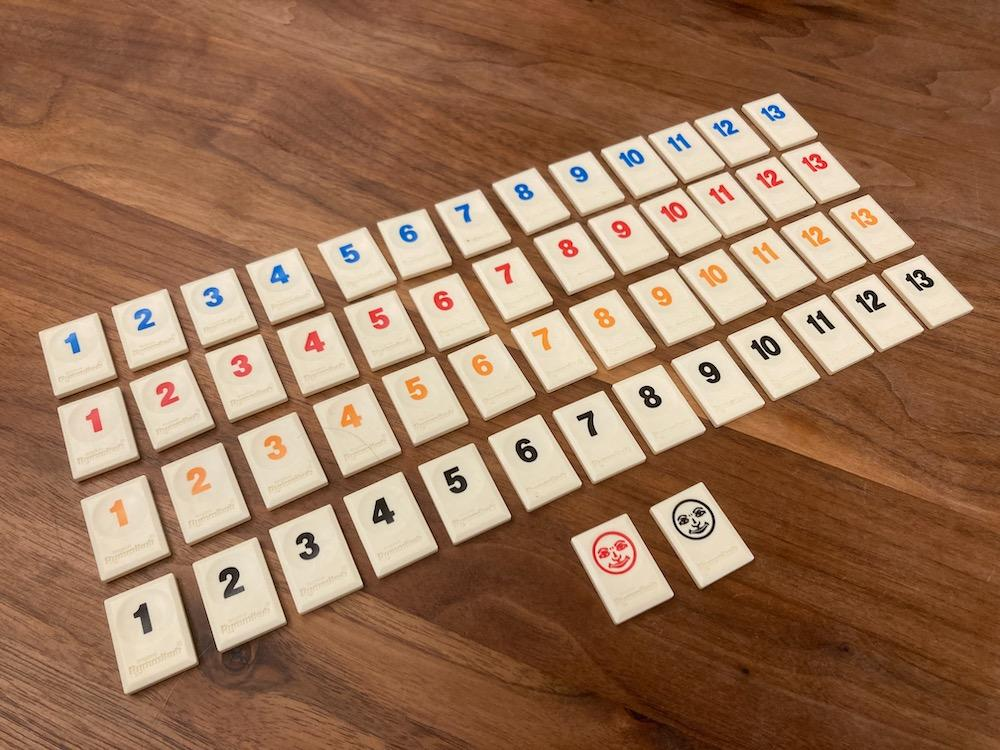black_1: (104, 574, 197, 693)
black_10: (727, 318, 820, 400)
black_11: (783, 295, 873, 375)
black_12: (832, 275, 924, 352)
black_13: (883, 256, 973, 328)
black_2: (194, 537, 287, 652)
black_3: (271, 504, 363, 615)
black_4: (344, 473, 438, 578)
black_5: (420, 443, 510, 545)
black_6: (488, 414, 580, 512)
black_7: (553, 391, 646, 482)
black_8: (615, 365, 705, 453)
black_9: (672, 342, 764, 426)
blue_1: (39, 314, 117, 398)
blue_10: (602, 137, 678, 199)
blue_11: (648, 121, 725, 184)
blue_12: (695, 107, 770, 166)
blue_13: (742, 94, 818, 150)
blue_2: (111, 289, 188, 371)
blue_3: (182, 270, 258, 348)
blue_4: (248, 248, 324, 324)
blue_5: (318, 227, 396, 301)
blue_6: (377, 209, 451, 279)
blue_7: (436, 189, 512, 258)
blue_8: (492, 168, 570, 234)
blue_9: (550, 152, 625, 215)
joker: (570, 514, 674, 623), (652, 482, 754, 588)
orange_1: (80, 477, 170, 582)
orange_10: (680, 250, 766, 324)
orange_11: (730, 229, 816, 301)
orange_12: (781, 213, 867, 281)
orange_13: (830, 195, 914, 262)
orange_2: (162, 443, 250, 545)
orange_3: (238, 412, 328, 510)
orange_4: (315, 385, 400, 477)
orange_5: (383, 357, 467, 445)
orange_6: (447, 334, 535, 420)
orange_7: (512, 311, 596, 393)
orange_8: (570, 289, 656, 369)
orange_9: (629, 270, 715, 346)
red_1: (57, 387, 139, 480)
red_10: (642, 189, 721, 256)
red_11: (689, 172, 768, 238)
red_12: (736, 158, 816, 221)
red_13: (781, 141, 859, 203)
red_2: (131, 361, 215, 451)
red_3: (205, 336, 287, 422)
red_4: (277, 312, 359, 396)
red_5: (345, 291, 424, 371)
red_6: (410, 273, 490, 350)
red_7: (473, 248, 553, 322)
red_8: (534, 223, 615, 295)
red_9: (589, 205, 668, 275)
